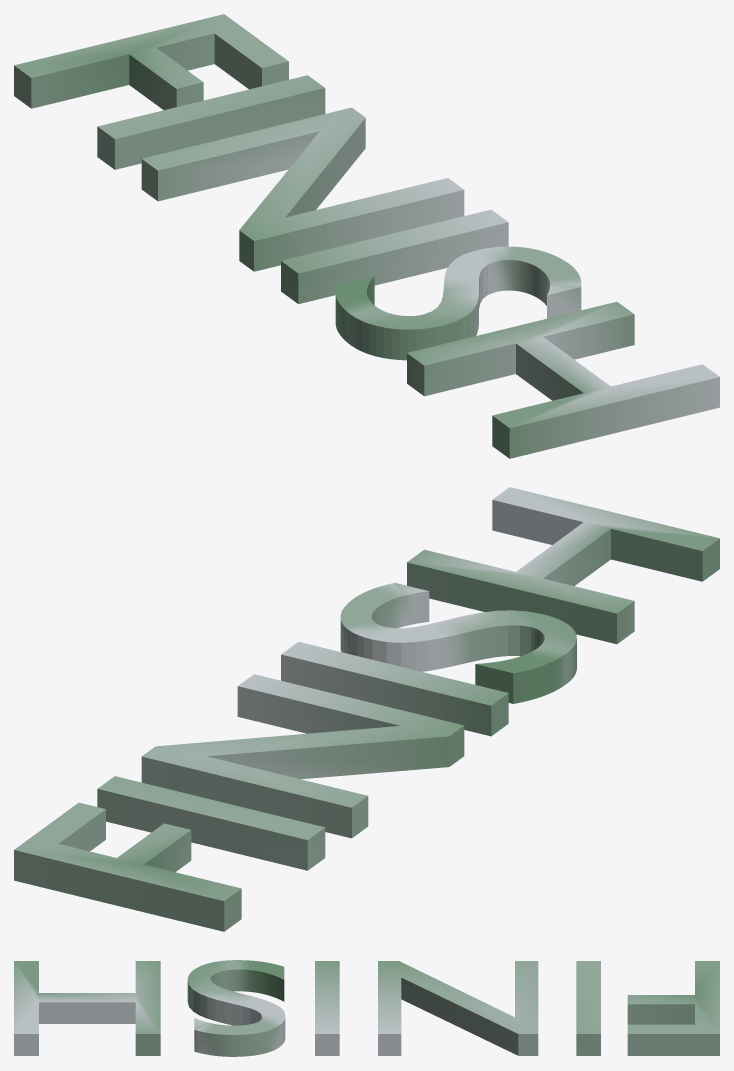
File: Finish_text.fbx
3 views of the same model, one above another, from view 1: azimuth 30°, elevation 25°; view 2: azimuth 150°, elevation 25°; view 3: azimuth 270°, elevation 25° (orthographic). The views are drawn at different scales.
Visible parts, largest first — view 1: Text; view 2: Text; view 3: Text.
Boxes of the visible parts, box(x1,y1,x2,y2) form: Text: box(14, 14, 719, 458); Text: box(14, 487, 719, 931); Text: box(14, 960, 719, 1056).
Bounding box in the file's own units: 15.16 × 2.06 × 60.31.
